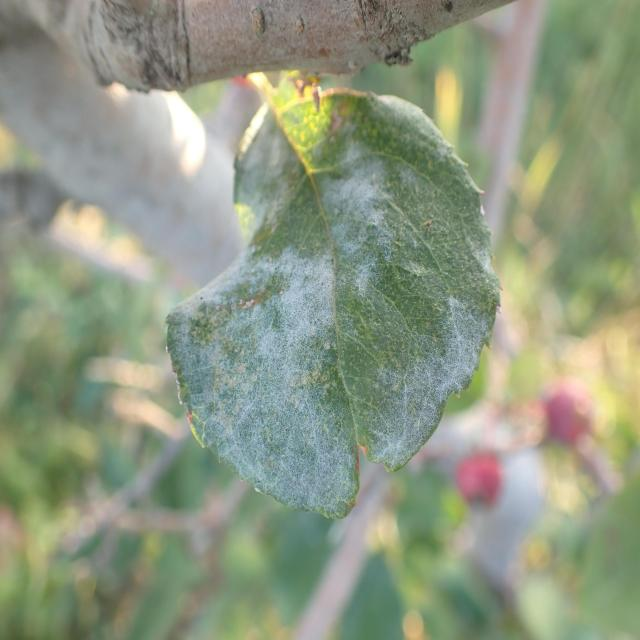Powdery_mildew: (180, 62, 492, 522)
